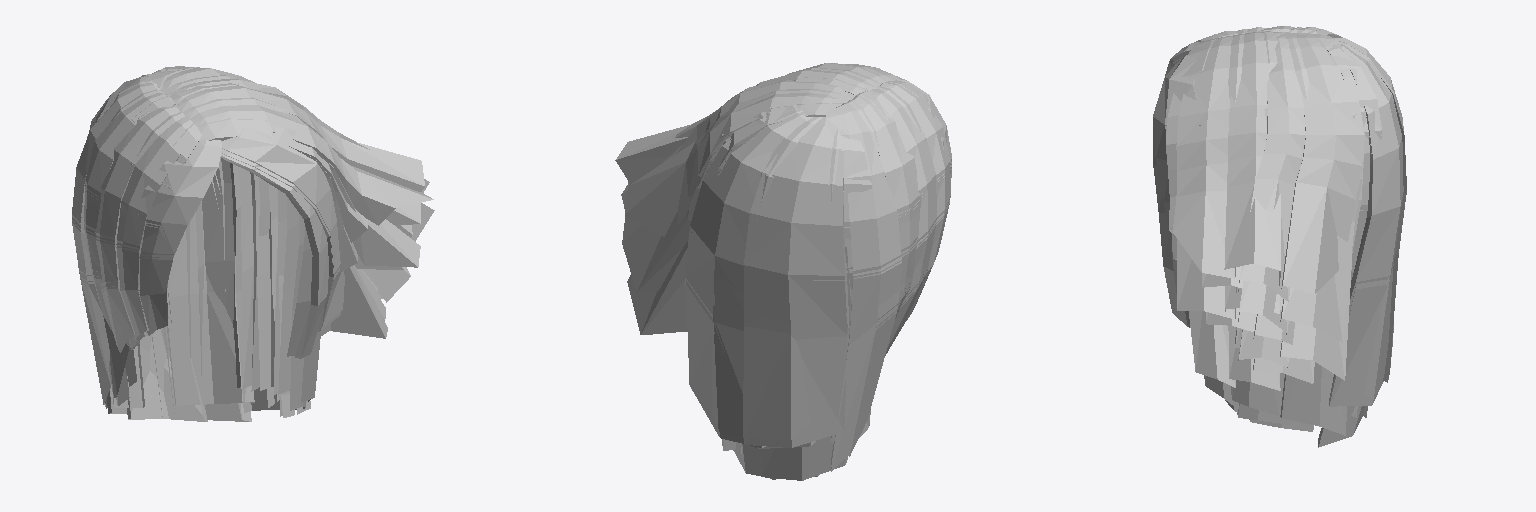
3 renders of one model, left to right at view 1: azimuth 30°, elevation 25°; view 2: azimuth 150°, elevation 25°; view 3: azimuth 270°, elevation 25°, orthographic.
Parts seen in each view (by area): view 1: T5; view 2: T5; view 3: T5.
Part boxes in pixels (x1,y1,x2,y2): T5: (72,66,434,421); T5: (615,63,951,480); T5: (1153,26,1406,447).
Size of the model in its own units: 0.1156 by 0.1307 by 0.0804.